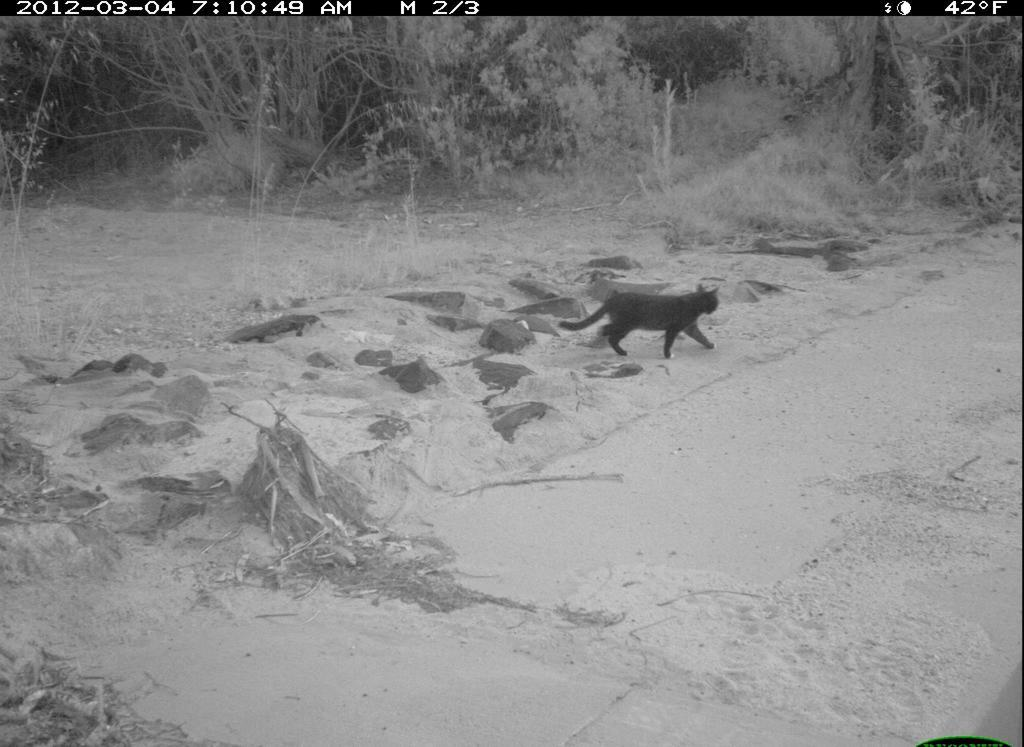cat: (546, 281, 729, 373)
